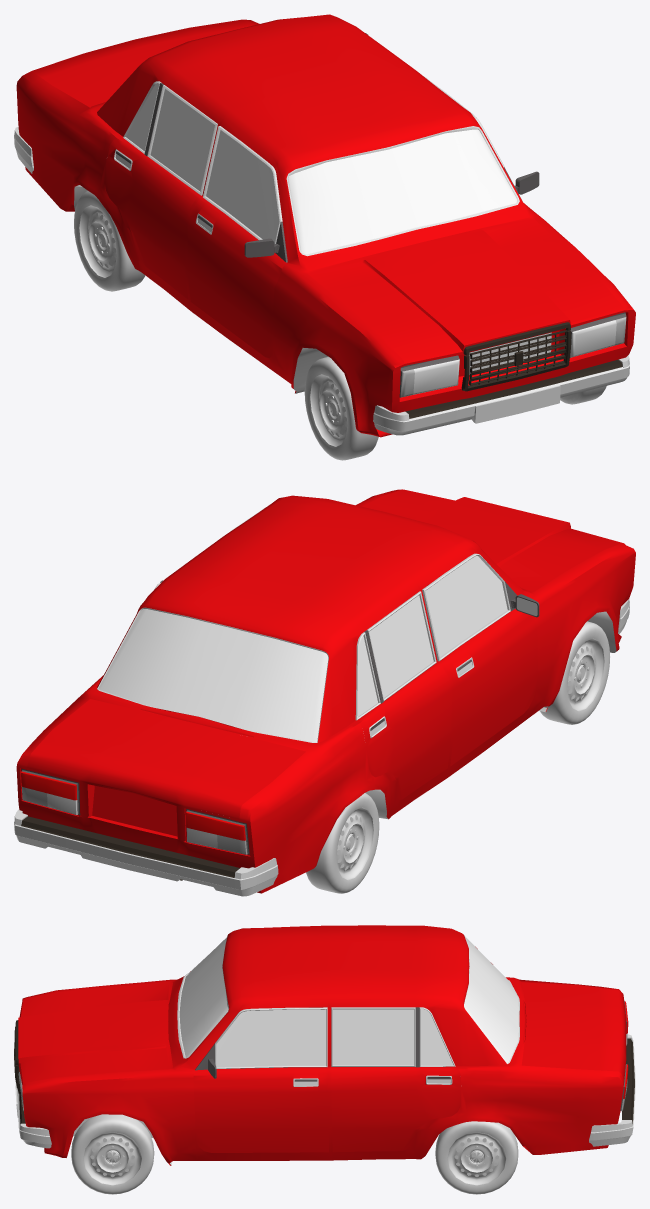
File: 3d_Lada-2107.fbx
3 views of the same model, one above another, from view 1: azimuth 30°, elevation 25°; view 2: azimuth 150°, elevation 25°; view 3: azimuth 270°, elevation 25° (orthographic). The views are drawn at different scales.
Visible parts, largest first — view 1: Main, Hood, Front_Door, Back_Door, Bumper_Front, Trunk, Front_Wheels, Back_Wheels, Grid; view 2: Main, Trunk, Front_Door, Back_Door, Hood, Bumper_Back, Back_Wheels, Front_Wheels; view 3: Main, Front_Door, Back_Door, Hood, Trunk, Front_Wheels, Back_Wheels, Bumper_Back, Bumper_Front.
Boxes of the visible parts, left/top/right/bottom form: Main: left=16, top=14, right=635, bottom=437; Hood: left=308, top=217, right=624, bottom=365; Front_Door: left=187, top=76, right=539, bottom=358; Back_Door: left=105, top=33, right=367, bottom=299; Bumper_Front: left=373, top=355, right=629, bottom=435; Trunk: left=32, top=19, right=254, bottom=107; Front_Wheels: left=304, top=356, right=606, bottom=460; Back_Wheels: left=74, top=191, right=145, bottom=291; Grid: left=461, top=330, right=571, bottom=391; Main: left=16, top=489, right=635, bottom=893; Trunk: left=27, top=699, right=305, bottom=819; Front_Door: left=231, top=507, right=539, bottom=766; Back_Door: left=154, top=580, right=452, bottom=799; Hood: left=363, top=489, right=623, bottom=591; Bumper_Back: left=14, top=809, right=278, bottom=896; Back_Wheels: left=306, top=793, right=379, bottom=893; Front_Wheels: left=540, top=621, right=609, bottom=724; Main: left=18, top=925, right=628, bottom=1165; Front_Door: left=193, top=1007, right=328, bottom=1152; Back_Door: left=331, top=1007, right=461, bottom=1152; Hood: left=15, top=982, right=172, bottom=1084; Trunk: left=521, top=982, right=626, bottom=1079; Front_Wheels: left=71, top=1114, right=154, bottom=1194; Back_Wheels: left=435, top=1121, right=518, bottom=1194; Bumper_Back: left=589, top=1034, right=635, bottom=1146; Bumper_Front: left=15, top=1082, right=51, bottom=1148.
Size of the model in its own units: 1.8 by 1.42 by 4.18.
